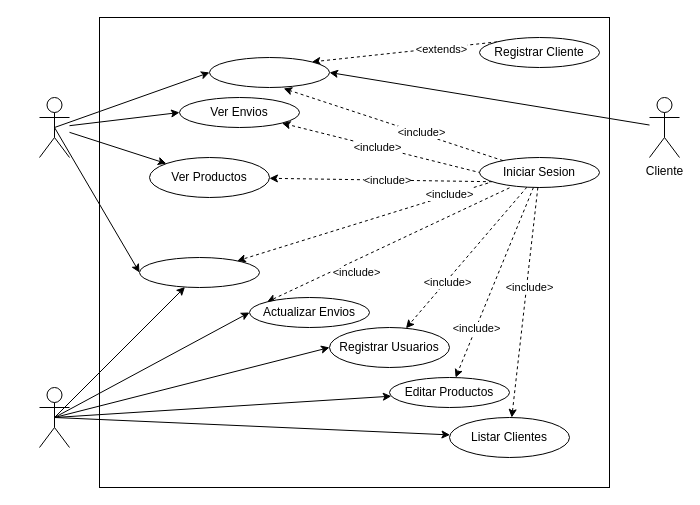
This 700x505 diagram has some shape labels left out. Each missing label, with the centre of its shape:
"Administrador" goes at pixel 54 417.
"Nuevo Pedido" goes at pixel 269 72.
"Vendedor" goes at pixel 54 127.
"Ver Reportes" goes at pixel 199 272.
